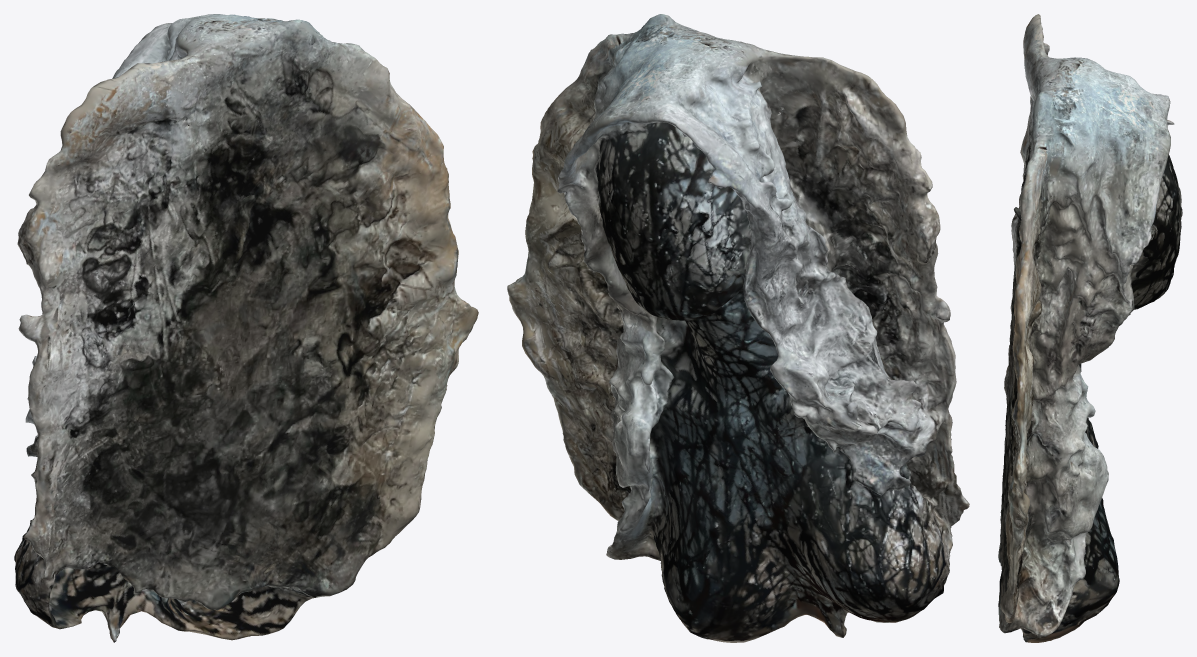
The model's file is FA-007-AVIF.glb.
The picture shows the model from 3 angles, left to right: view 1: azimuth 30°, elevation 25°; view 2: azimuth 150°, elevation 25°; view 3: azimuth 270°, elevation 25°; orthographic projection. The views are drawn at different scales.
Parts seen in each view (by area): view 1: 3DModel; view 2: 3DModel; view 3: 3DModel.
Part boxes in pixels (box(x1,y1,x2,y2)): 3DModel: box(14, 14, 478, 642); 3DModel: box(507, 14, 969, 642); 3DModel: box(998, 14, 1182, 642).
Bounding box in the file's own units: 0.6243 × 0.7877 × 0.2322.
Materials: 1 (1 with a texture image).
